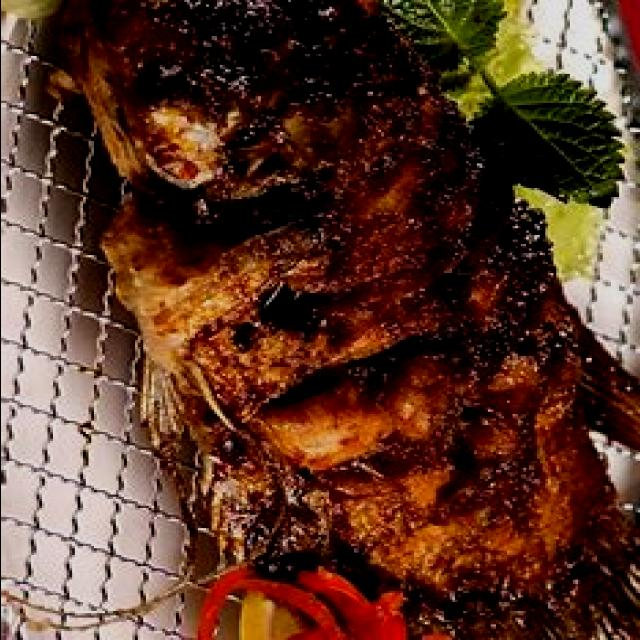ikan bakar: (49, 0, 640, 640)
